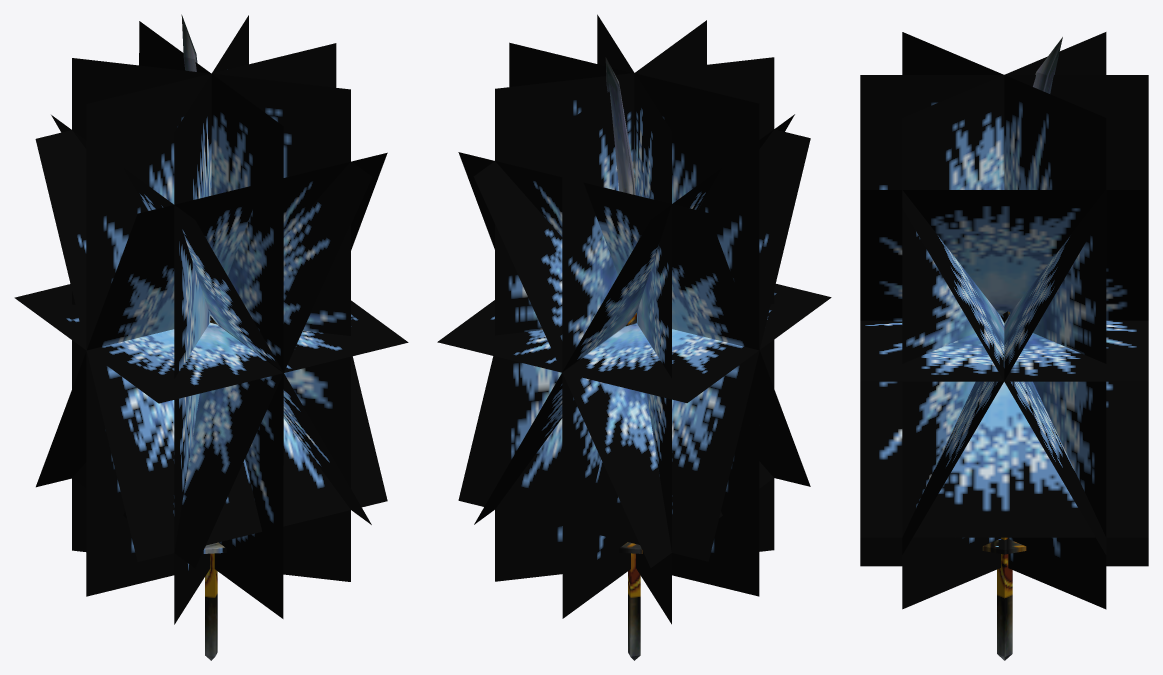
File: blademaster06.obj
The picture shows the model from 3 angles, left to right: view 1: azimuth 30°, elevation 25°; view 2: azimuth 150°, elevation 25°; view 3: azimuth 270°, elevation 25°; orthographic projection.
Parts seen in each view (by area): view 1: blademaster06; view 2: blademaster06; view 3: blademaster06.
Part boxes in pixels (box(x1,y1,x2,y2)): blademaster06: box(14, 14, 408, 660); blademaster06: box(437, 14, 831, 660); blademaster06: box(860, 32, 1148, 660).
Size of the model in its own units: 0.735 by 1.76 by 0.7362.
